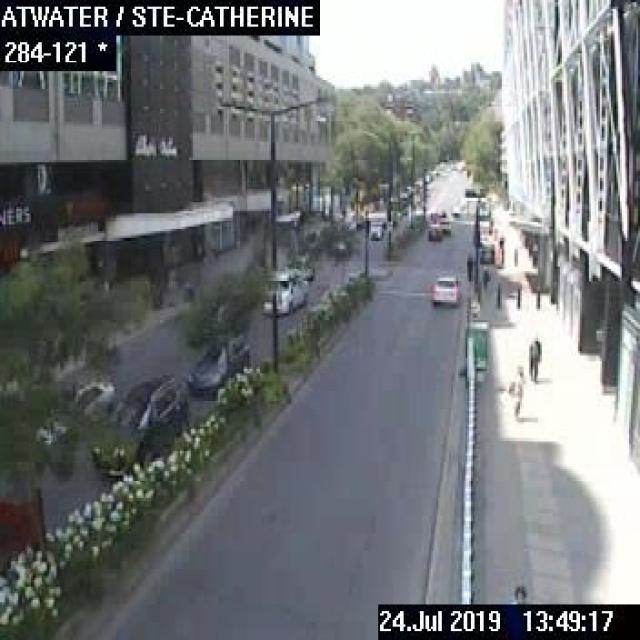pedestrian: (508, 364, 524, 420), (526, 336, 540, 383), (509, 582, 526, 600), (463, 251, 472, 280)
vehicle: (88, 373, 186, 465), (31, 372, 115, 444), (186, 336, 249, 393), (260, 272, 305, 314), (429, 271, 460, 305), (434, 215, 450, 233), (367, 222, 382, 238), (426, 222, 440, 238), (480, 265, 489, 287)
